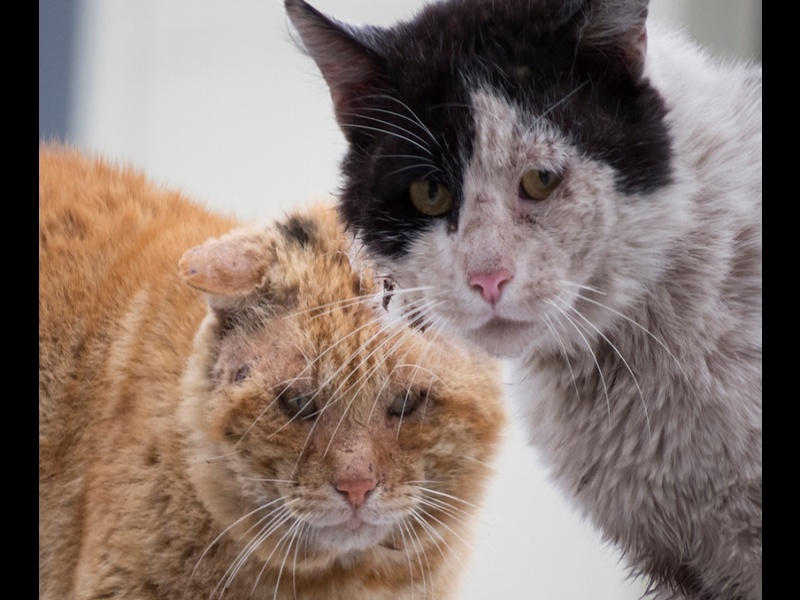cat: (278, 3, 758, 594), (43, 112, 506, 594)
